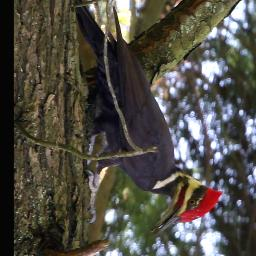Woodpecker: (70, 0, 224, 235)
